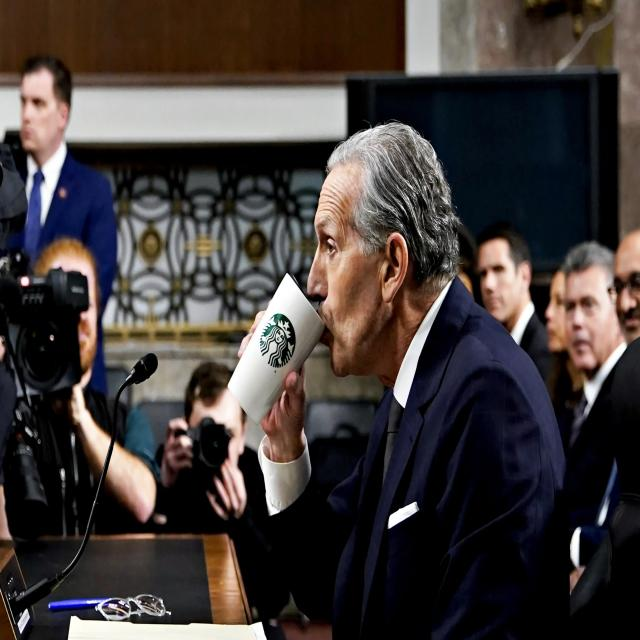starbucks: (261, 314, 295, 364)
